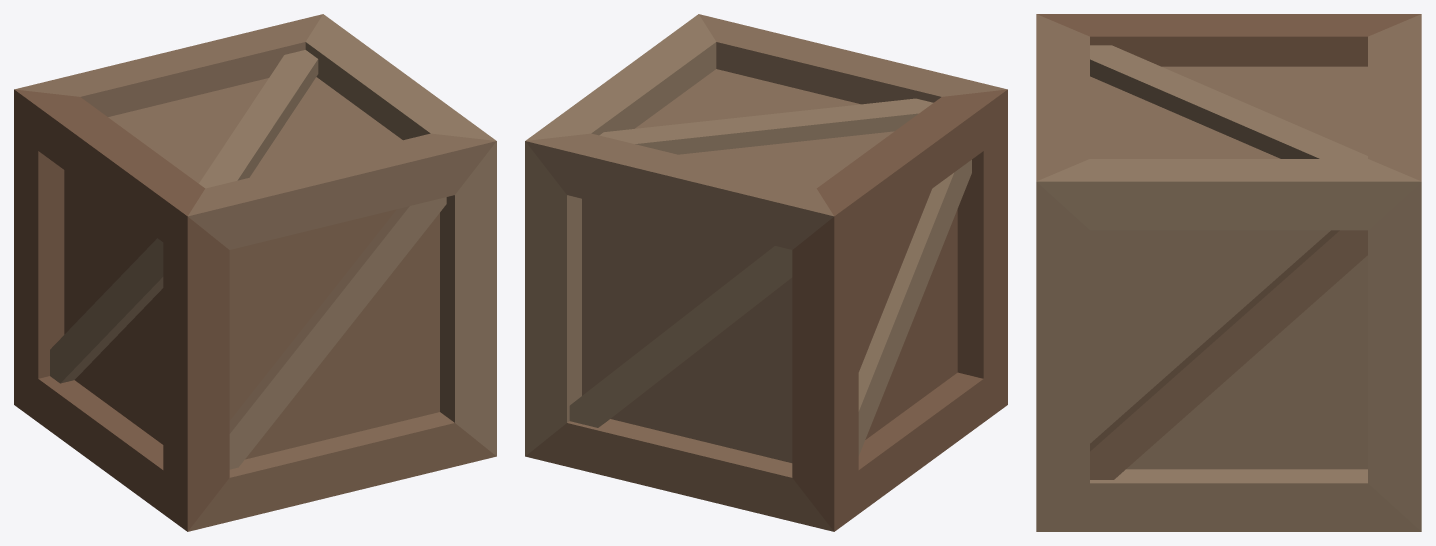
Rendered from crate.glb.
The picture shows the model from 3 angles, left to right: view 1: azimuth 30°, elevation 25°; view 2: azimuth 150°, elevation 25°; view 3: azimuth 270°, elevation 25°; orthographic projection. The views are drawn at different scales.
Parts seen in each view (by area): view 1: Crate.001; view 2: Crate.001; view 3: Crate.001.
Boxes of the visible parts, left/top/right/bottom form: Crate.001: left=14, top=14, right=496, bottom=531; Crate.001: left=525, top=14, right=1007, bottom=531; Crate.001: left=1036, top=14, right=1421, bottom=531.
Bounding box in the file's own units: 0.82 × 0.7997 × 0.7971.
